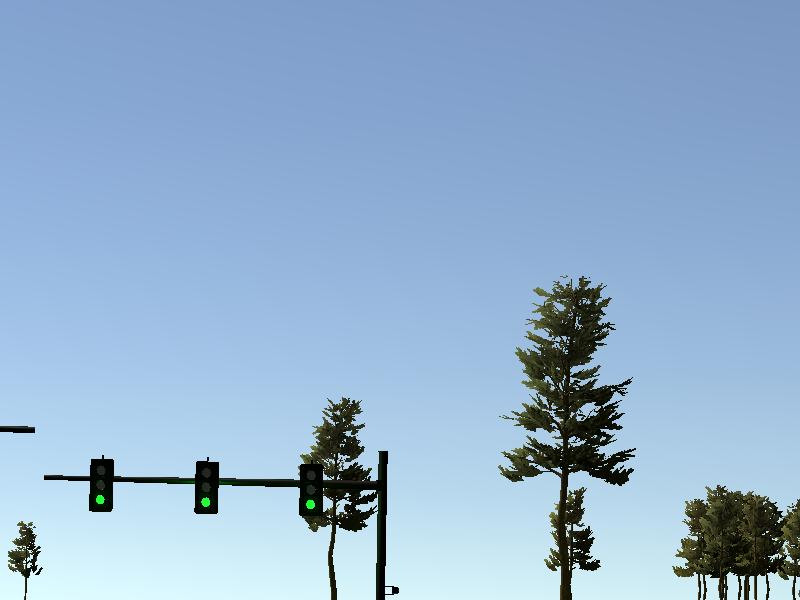green: (89, 458, 113, 512), (195, 461, 219, 515), (298, 463, 322, 517)
